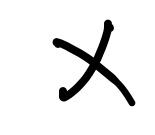mult: (54, 18, 136, 110)
